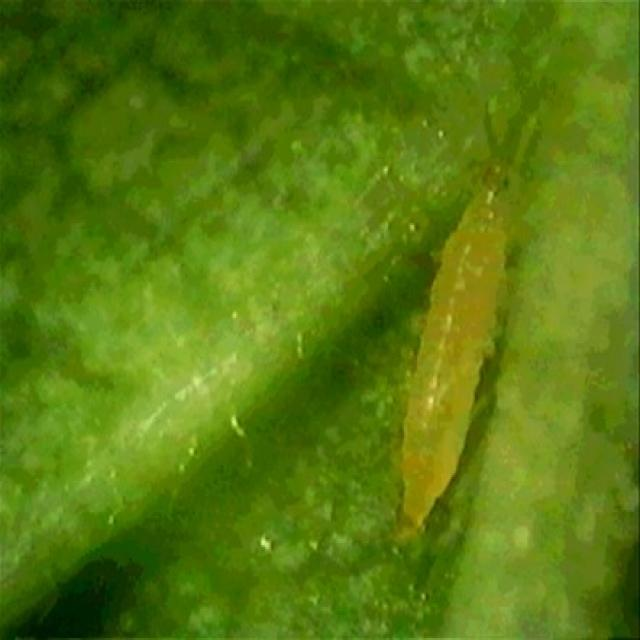Thrip-Larva-: (378, 175, 516, 528)
